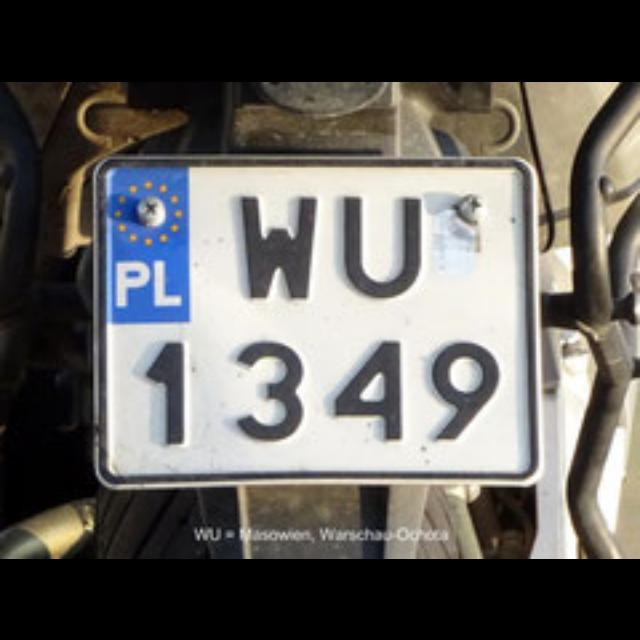pl_license_plate: (98, 161, 536, 475)
